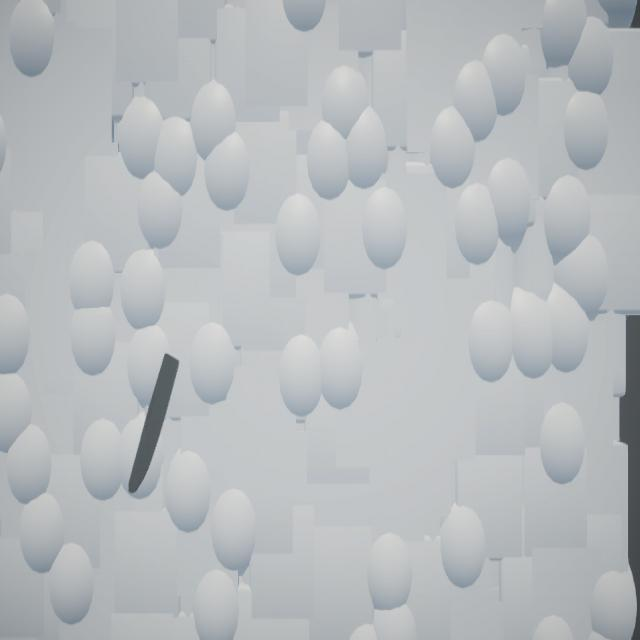top_knife: (129, 353, 181, 495)
